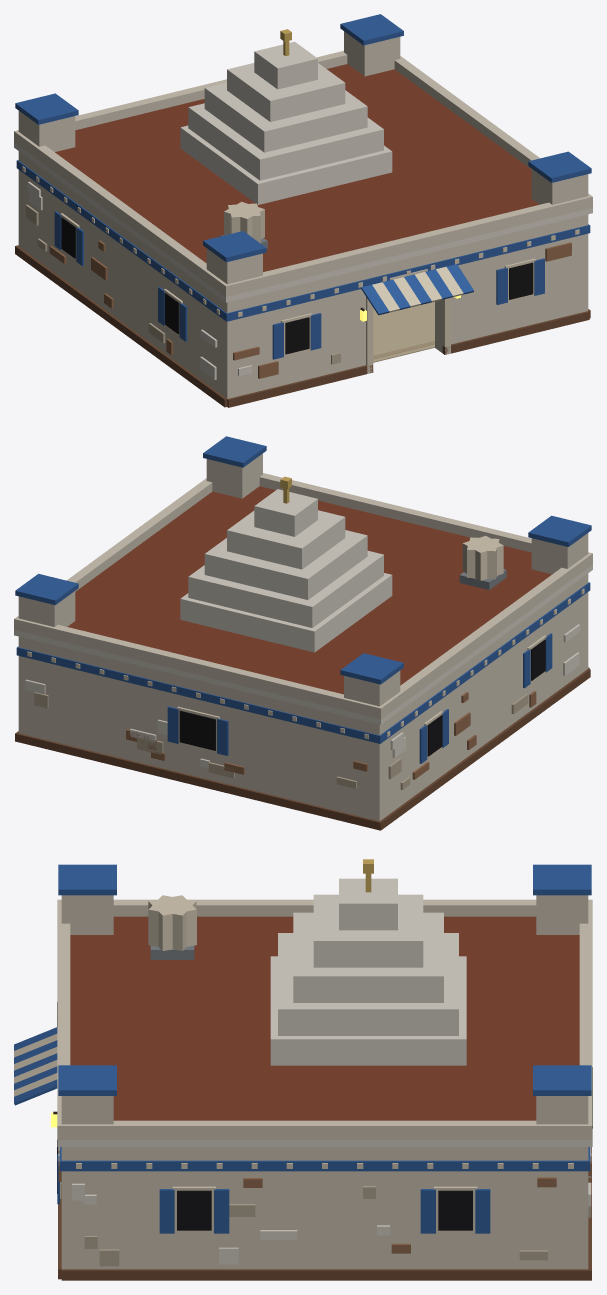
File: dd_big_b.glb
The picture shows the model from 3 angles, top to bottom: view 1: azimuth 30°, elevation 25°; view 2: azimuth 150°, elevation 25°; view 3: azimuth 270°, elevation 25°; orthographic projection. The views are drawn at different scales.
Visible parts, largest first — view 1: DUBG_dd_big_b_roof, DUBG_dd_big_b; view 2: DUBG_dd_big_b_roof, DUBG_dd_big_b; view 3: DUBG_dd_big_b_roof, DUBG_dd_big_b.
Part boxes in pixels (x1=…): DUBG_dd_big_b_roof: x1=14, y1=14, x2=592, y2=302; DUBG_dd_big_b: x1=15, y1=151, x2=590, y2=407; DUBG_dd_big_b_roof: x1=14, y1=436, x2=592, y2=724; DUBG_dd_big_b: x1=15, y1=573, x2=590, y2=830; DUBG_dd_big_b_roof: x1=57, y1=859, x2=592, y2=1146; DUBG_dd_big_b: x1=14, y1=1002, x2=592, y2=1280.
Bounding box in the file's own units: 24.62 × 15.52 × 26.59.
